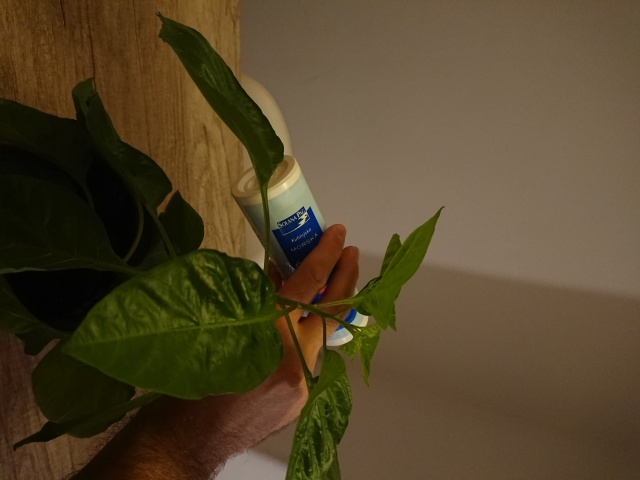Solana Pag Fine Sea Salt 250g: (229, 152, 372, 351)
